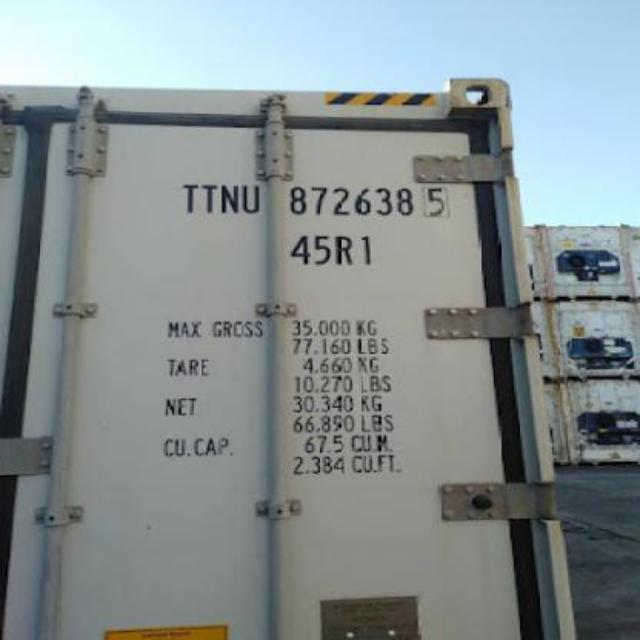2: (330, 180, 350, 216)
3: (374, 182, 392, 220)
5: (422, 184, 454, 220)
6: (350, 180, 374, 216)
7: (310, 182, 330, 214)
8: (394, 182, 414, 220), (288, 182, 310, 215)
N: (218, 178, 240, 225)
T: (176, 173, 202, 217), (200, 180, 216, 220)
U: (240, 178, 264, 220)
